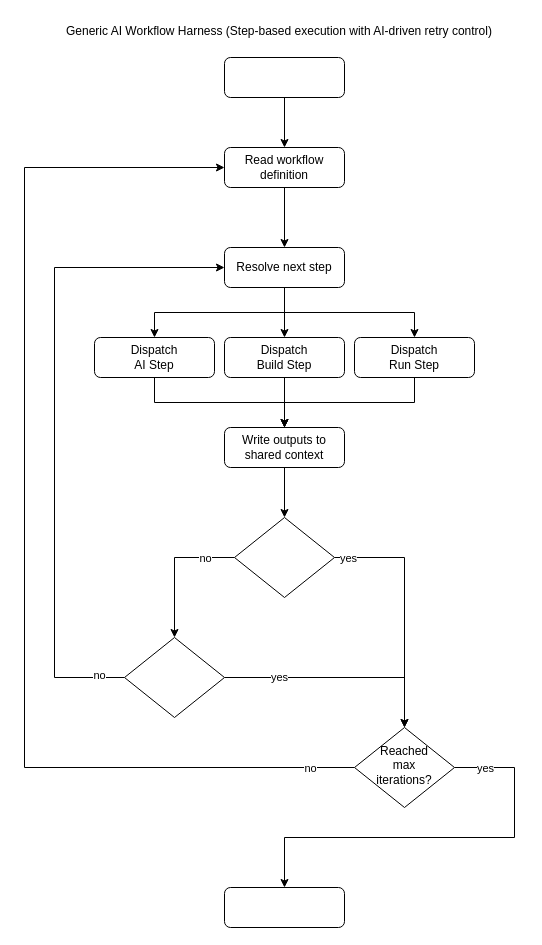
Image size: 542x945. Some labels were removed from this diagram. The shapes that lost their labels are listed below. From the top down, each one's centre as x and y in pixels, then its label:
At point (284, 77): "start".
At point (284, 557): "retry requested?".
At point (174, 677): "End of workflow?".
At point (284, 907): "end".
